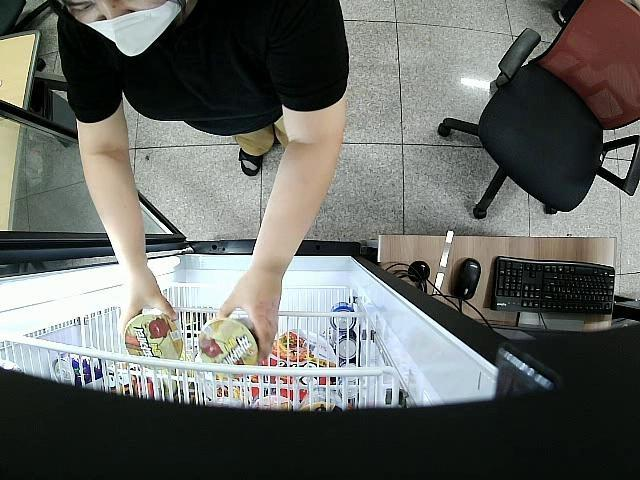04_chapagetti_S: (123, 312, 184, 363), (196, 317, 258, 364)
